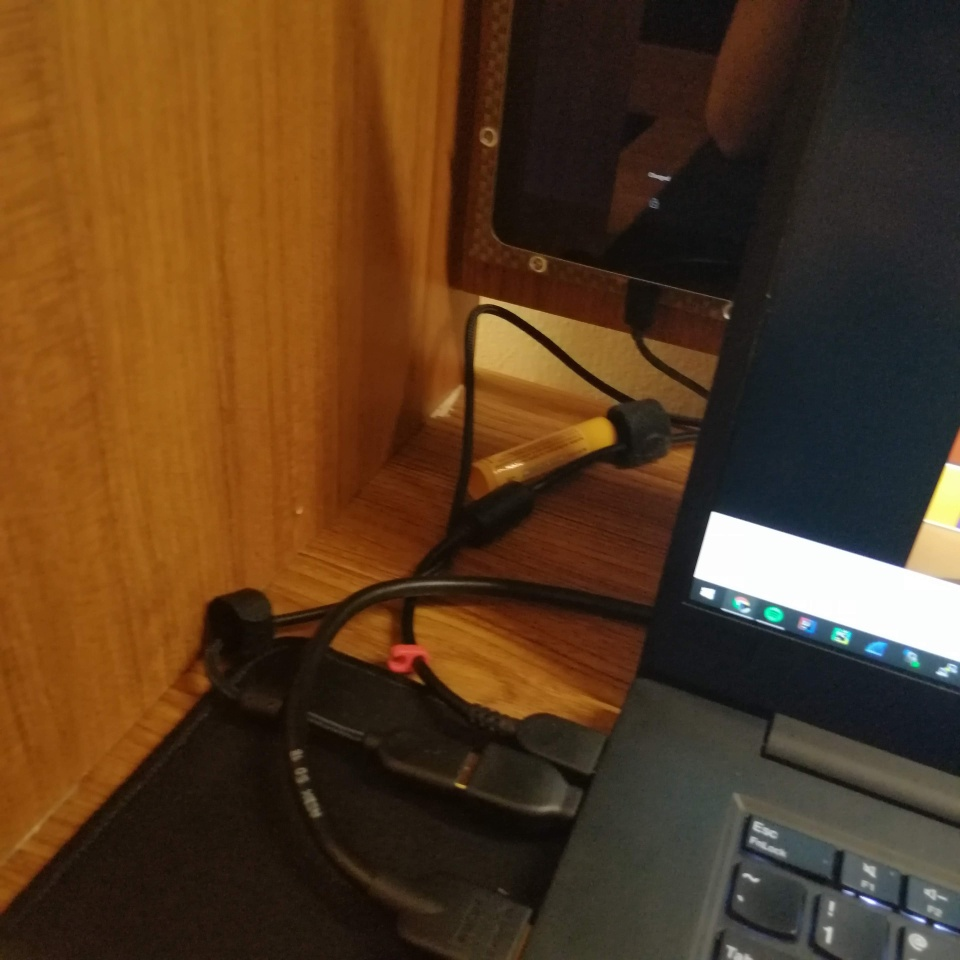chapstick: (466, 413, 622, 510)
